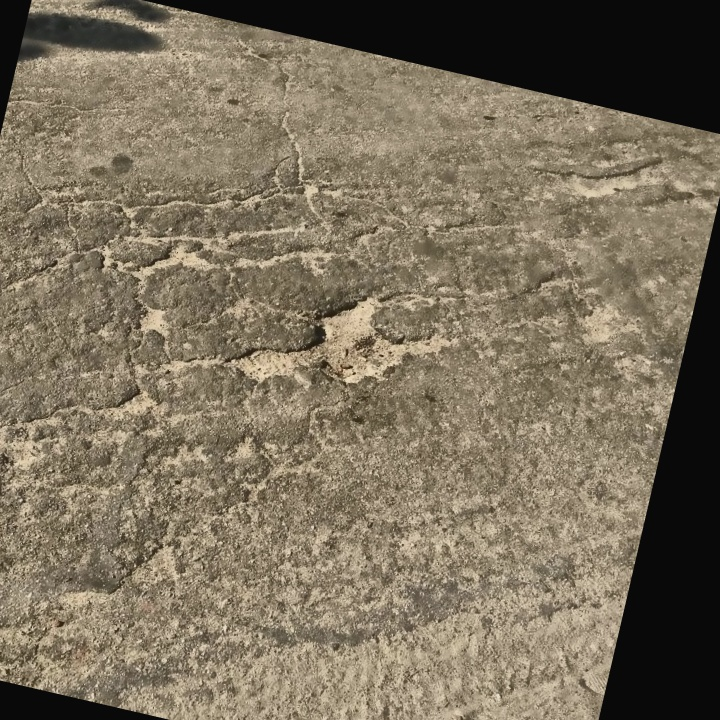pothole: (227, 264, 462, 426)
